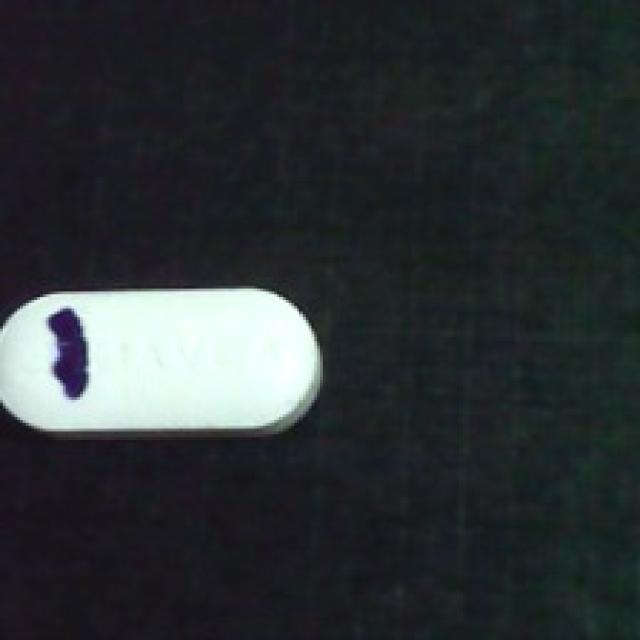defected: (0, 269, 329, 443)
